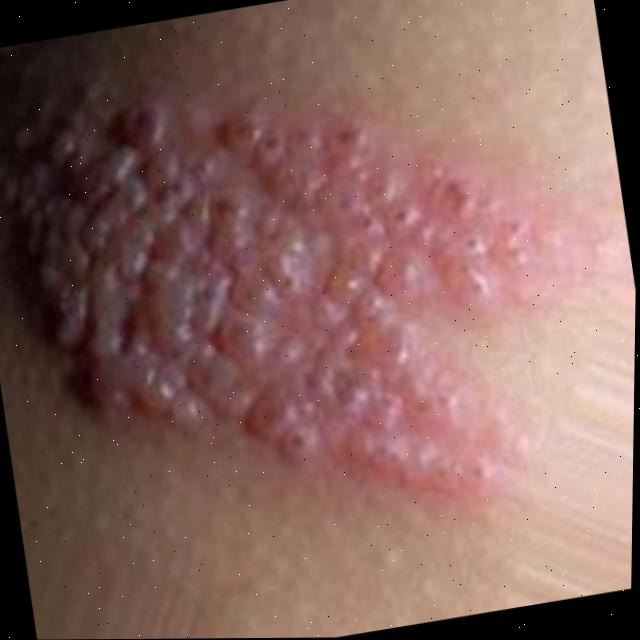Shingles: (0, 1, 602, 532)
